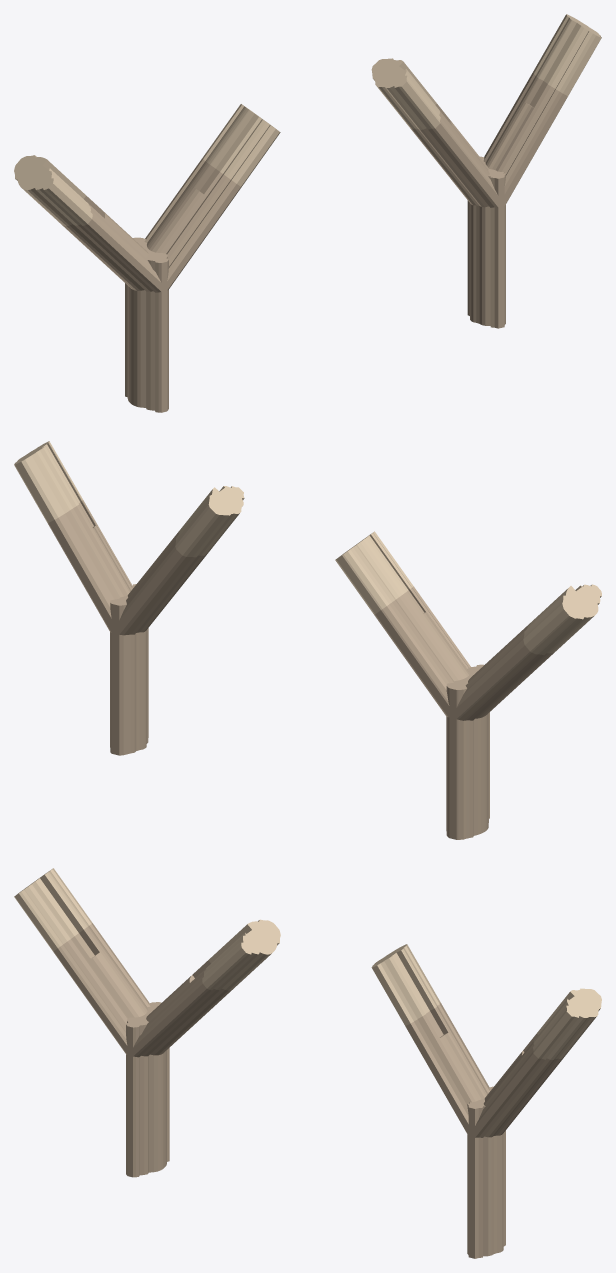
Rendered from R45_UNIFIED_BRANCHING_STONE_GENERATOR.glb.
3 renders of one model, top to bottom at view 1: azimuth 30°, elevation 25°; view 2: azimuth 150°, elevation 25°; view 3: azimuth 330°, elevation 25°, orthographic.
Visible parts, largest first — view 1: R45_PNG_A42_Y_STONE, R45_JSON_B35_Y_STONE, R45_PNG_A42_EXTENSION_2, R45_PNG_A42_EXTENSION_1, R45_JSON_B35_EXTENSION_2, R45_JSON_B35_EXTENSION_1; view 2: R45_PNG_A42_Y_STONE, R45_JSON_B35_Y_STONE, R45_PNG_A42_EXTENSION_2, R45_PNG_A42_EXTENSION_1, R45_JSON_B35_EXTENSION_2, R45_JSON_B35_EXTENSION_1; view 3: R45_PNG_A42_Y_STONE, R45_JSON_B35_Y_STONE, R45_PNG_A42_EXTENSION_1, R45_PNG_A42_EXTENSION_2, R45_JSON_B35_EXTENSION_1, R45_JSON_B35_EXTENSION_2.
Boxes of the visible parts, box(x1,y1,x2,y2) form: R45_PNG_A42_Y_STONE: box(62, 159, 241, 412); R45_JSON_B35_Y_STONE: box(410, 72, 567, 328); R45_PNG_A42_EXTENSION_2: box(202, 104, 280, 186); R45_PNG_A42_EXTENSION_1: box(14, 155, 92, 225); R45_JSON_B35_EXTENSION_2: box(533, 14, 601, 95); R45_JSON_B35_EXTENSION_1: box(371, 58, 440, 129); R45_PNG_A42_Y_STONE: box(374, 586, 554, 839); R45_JSON_B35_Y_STONE: box(47, 500, 206, 755); R45_PNG_A42_EXTENSION_2: box(335, 531, 413, 614); R45_PNG_A42_EXTENSION_1: box(523, 584, 601, 655); R45_JSON_B35_EXTENSION_2: box(14, 441, 82, 522); R45_JSON_B35_EXTENSION_1: box(175, 486, 244, 557); R45_PNG_A42_Y_STONE: box(53, 923, 232, 1177); R45_JSON_B35_Y_STONE: box(405, 1002, 563, 1258); R45_PNG_A42_EXTENSION_1: box(14, 868, 92, 951); R45_PNG_A42_EXTENSION_2: box(202, 919, 280, 990); R45_JSON_B35_EXTENSION_1: box(371, 944, 440, 1025); R45_JSON_B35_EXTENSION_2: box(533, 988, 601, 1059).
Size of the model in its own units: 1.63 by 0.749 by 0.16.
